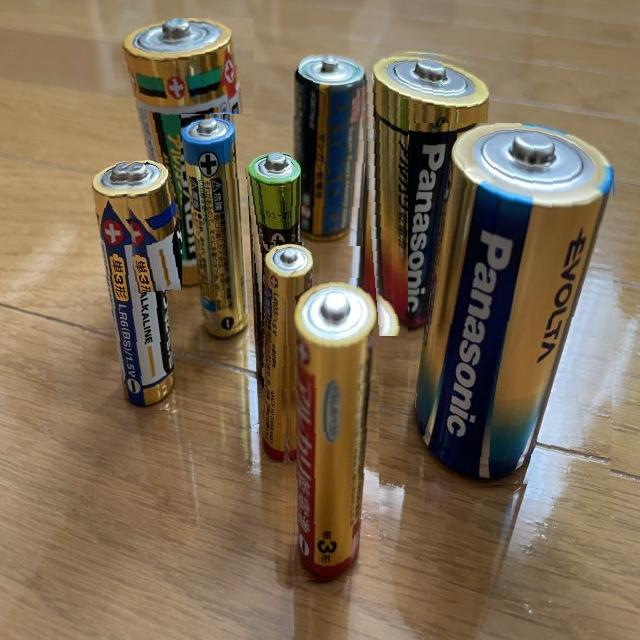battery: (408, 123, 614, 490), (113, 18, 254, 293), (356, 48, 489, 336), (286, 278, 380, 582), (82, 157, 190, 411), (182, 114, 254, 345), (244, 152, 310, 390), (291, 48, 367, 246), (262, 241, 320, 463)
